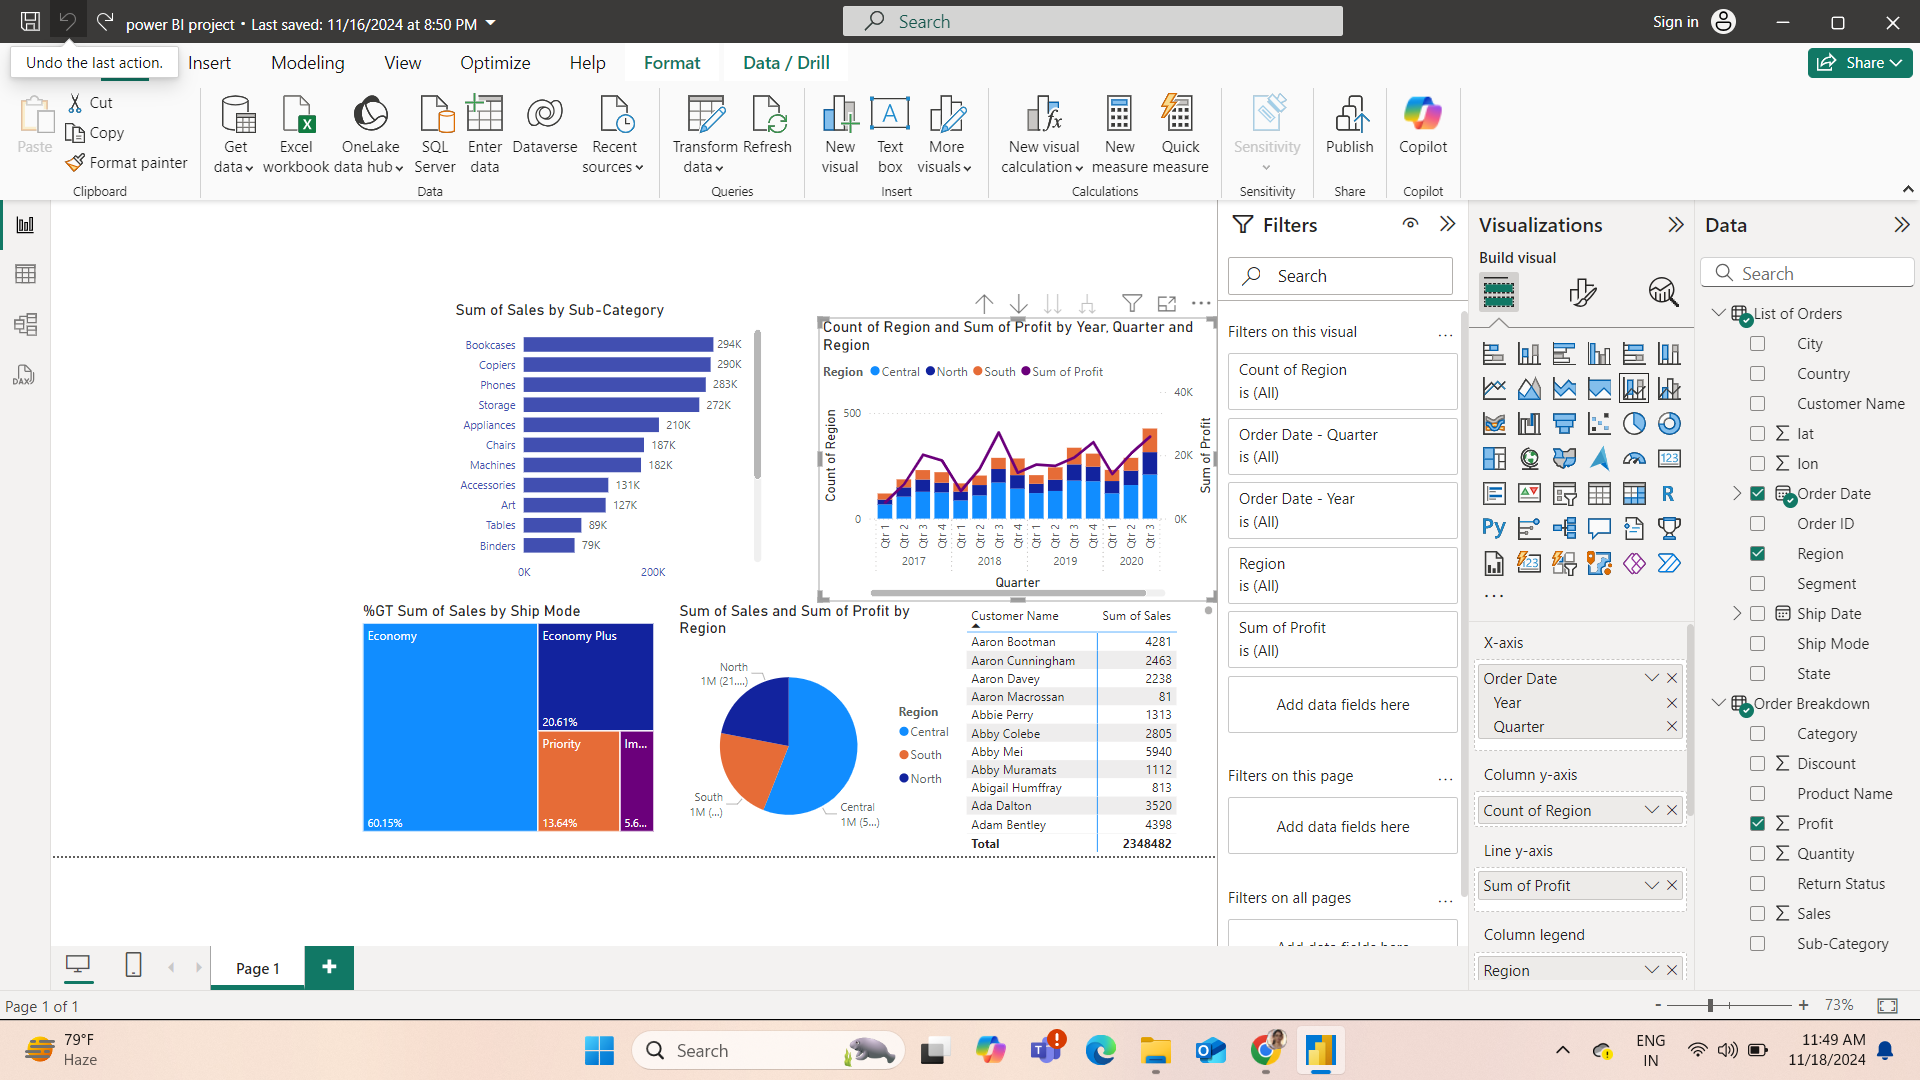

The page's visual inventory and layout, read from the dashboard file:
{"tool":"powerbi","page":{"name":"Page 1","canvas":[1280,720],"ordinal":0},"visuals":[{"type":"pivotTable","fields":{"Rows":["List of Orders.Customer Name"],"Values":["Sum(Order Breakdown.Sales)"]},"box":[1000.3,440.5,279.9,279.9],"z":0},{"type":"clusteredBarChart","title":" Sales by Sub-Category","fields":{"Category":["Order Breakdown.Sub-Category","Order Breakdown.Profit"],"Y":["Sum(Order Breakdown.Sales)"]},"box":[347.5,128.8,437.5,297.5],"z":1000},{"type":"pieChart","title":" Sales and Profit by Region","fields":{"Category":["List of Orders.Region"],"Y":["Sum(Order Breakdown.Sales)"]},"box":[684.7,440.5,315.6,279.9],"z":2000},{"type":"treemap","title":"%GT of Sales by Ship Mode","fields":{"Values":["Sum(Order Breakdown.Sales)"],"Group":["List of Orders.Ship Mode"]},"box":[337.6,440.5,329.3,258],"z":3000},{"type":"lineStackedColumnComboChart","title":"Count of Region  and Profit by Year, Quarter and Region","fields":{"Y2":["Sum(Order Breakdown.Profit)"],"Y":["CountNonNull(List of Orders.Region)"],"Category":["List of Orders.Order Date.Variation.Date Hierarchy.Year","List of Orders.Order Date.Variation.Date Hierarchy.Quarter"],"Series":["List of Orders.Region"]},"box":[842.5,129,437.7,311.5],"z":4000},{"type":"map","title":"Sales by location","fields":{"Category":["List of Orders.Country","List of Orders.State","List of Orders.City"],"Size":["Sum(Order Breakdown.Sales)"]},"box":[0,381.2,347.5,316.2],"z":5000},{"type":"card","fields":{"Values":["Sum(Order Breakdown.Sales)"]},"box":[358.8,0,240,128.8],"z":5001},{"type":"card","fields":{"Values":["Sum(Order Breakdown.Profit)"]},"box":[598.8,0,243.8,130],"z":5003},{"type":"card","fields":{"Values":["Sum(Order Breakdown.Quantity)"]},"box":[842.5,0,218.8,128.8],"z":5004},{"type":"card","fields":{"Values":["CountNonNull(List of Orders.Order ID)"]},"box":[1061.2,0,218.8,128.8],"z":5005},{"type":"image","box":[0,0,105,138.8],"z":5006},{"type":"textbox","box":[100,48.8,258.8,45],"z":5007},{"type":"slicer","fields":{"Values":["List of Orders.Order Date"]},"box":[0,138.8,337.5,106.2],"z":5008},{"type":"slicer","fields":{"Values":["List of Orders.Ship Date"]},"box":[0,245,337.5,115],"z":5009}]}

Visuals, with their boxes on the page's 1280x720 design canvas (x1, y1, x2, y2). These are canvas units, not pixel positions in the 1920x1080 screenshot, which may show the page scaled, cropped or inside an application window:
pivotTable - List of Orders.Customer Name x Sum(Order Breakdown.Sales): [1000, 440, 1280, 720]
" Sales by Sub-Category" clusteredBarChart: [348, 129, 785, 426]
" Sales and Profit by Region" pieChart: [685, 440, 1000, 720]
"%GT of Sales by Ship Mode" treemap: [338, 440, 667, 698]
"Count of Region  and Profit by Year, Quarter and Region" lineStackedColumnComboChart: [842, 129, 1280, 440]
"Sales by location" map: [0, 381, 348, 697]
card - Sum(Order Breakdown.Sales): [359, 0, 599, 129]
card - Sum(Order Breakdown.Profit): [599, 0, 843, 130]
card - Sum(Order Breakdown.Quantity): [842, 0, 1061, 129]
card - CountNonNull(List of Orders.Order ID): [1061, 0, 1280, 129]
image: [0, 0, 105, 139]
textbox: [100, 49, 359, 94]
slicer - List of Orders.Order Date: [0, 139, 338, 245]
slicer - List of Orders.Ship Date: [0, 245, 338, 360]
